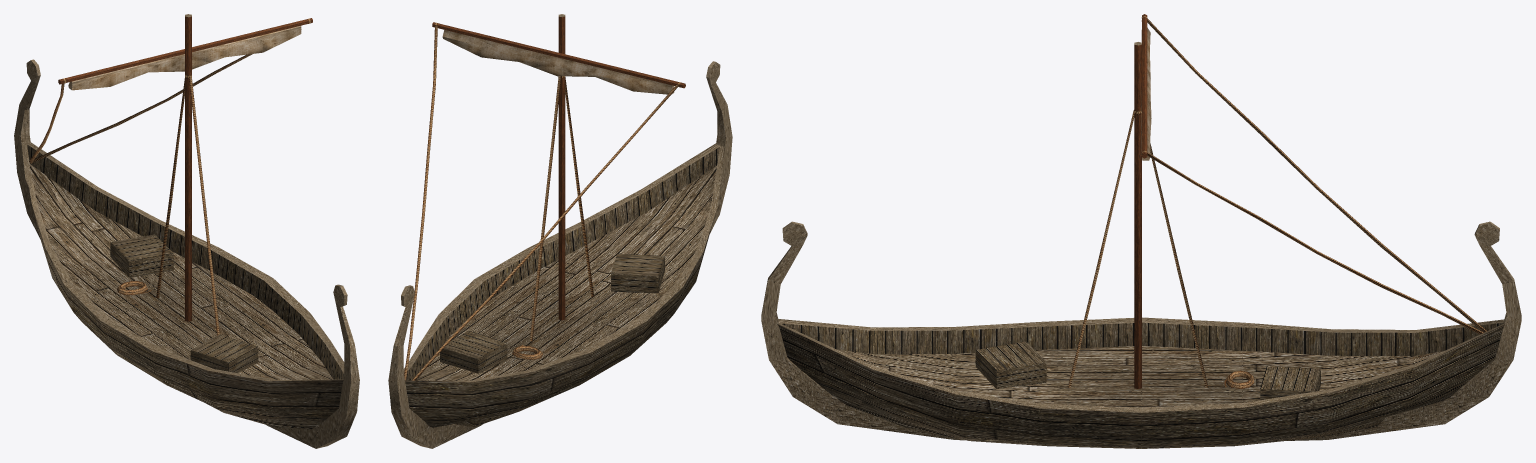
Rendered from mm9_deco_vikingship.glb.
The picture shows the model from 3 angles, left to right: view 1: azimuth 30°, elevation 25°; view 2: azimuth 150°, elevation 25°; view 3: azimuth 270°, elevation 25°; orthographic projection. The views are drawn at different scales.
Parts seen in each view (by area): view 1: Vikingship; view 2: Vikingship; view 3: Vikingship.
Boxes of the visible parts, x1,y1,x2,y2 form: Vikingship: (14,14,359,448); Vikingship: (388,14,732,448); Vikingship: (761,14,1521,448).
Bounding box in the file's own units: 9.09 × 12.18 × 21.02.
Materials: 2 (2 with a texture image).
